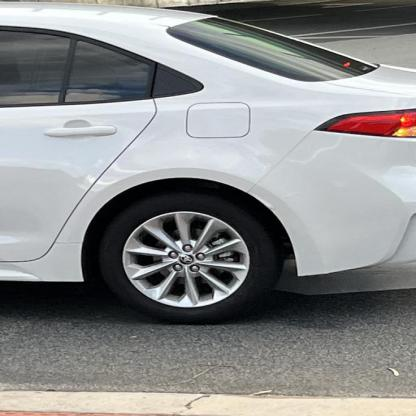Tire: (98, 194, 282, 325)
